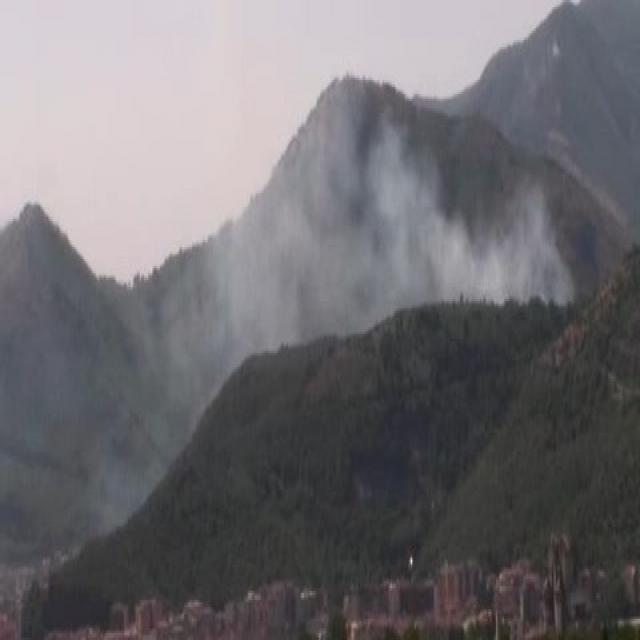smoke: (326, 96, 530, 313)
